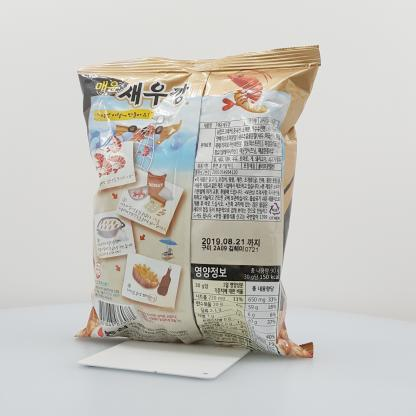Plastic Packaging: (66, 36, 334, 366)
